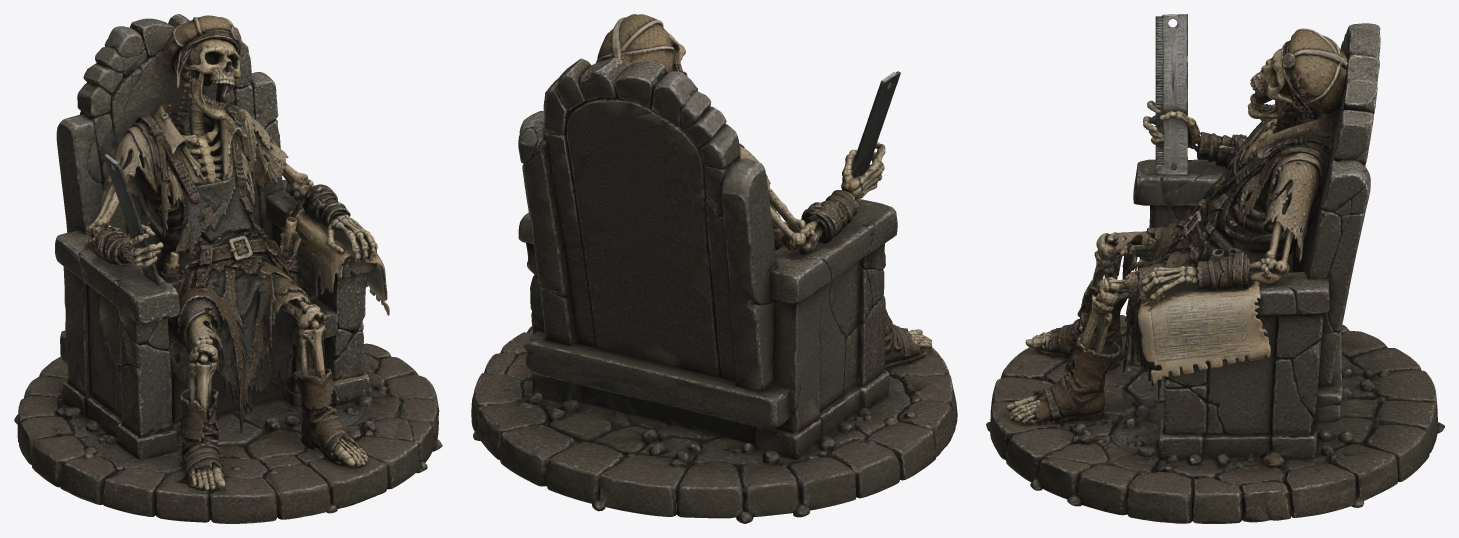
File: artimus-builder-of-the-keep.glb
The picture shows the model from 3 angles, left to right: view 1: azimuth 30°, elevation 25°; view 2: azimuth 150°, elevation 25°; view 3: azimuth 270°, elevation 25°; orthographic projection. The views are drawn at different scales.
Parts seen in each view (by area): view 1: tripo_node_c7de6bd5-02ae-460d-b4ca-412dcb543ee9; view 2: tripo_node_c7de6bd5-02ae-460d-b4ca-412dcb543ee9; view 3: tripo_node_c7de6bd5-02ae-460d-b4ca-412dcb543ee9.
Boxes of the visible parts, x1,y1,x2,y2 form: tripo_node_c7de6bd5-02ae-460d-b4ca-412dcb543ee9: (14, 14, 442, 523); tripo_node_c7de6bd5-02ae-460d-b4ca-412dcb543ee9: (471, 14, 957, 523); tripo_node_c7de6bd5-02ae-460d-b4ca-412dcb543ee9: (986, 14, 1444, 523).
Bounding box in the file's own units: 0.9742 × 0.9684 × 0.9811.
1 material, 1 textured.
